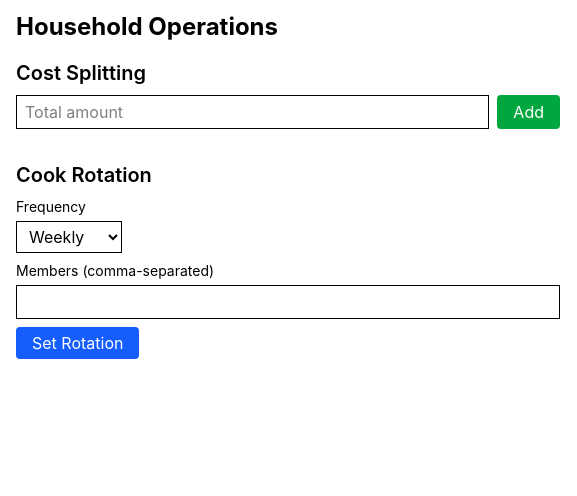
Scenario: HouseholdOps page › sets rotation and shows assignments
Type "a,b" into the field with test id "rotation-members". click: [288, 302]
box: [16,285,560,319]
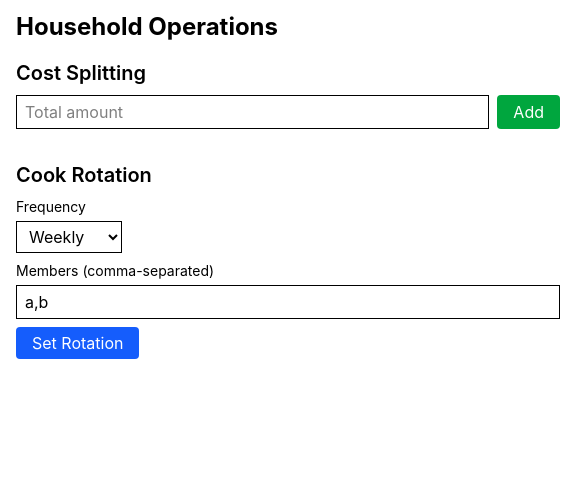
Click the button with test id "rotation-submit". click: [78, 343]
box: [16,327,139,359]
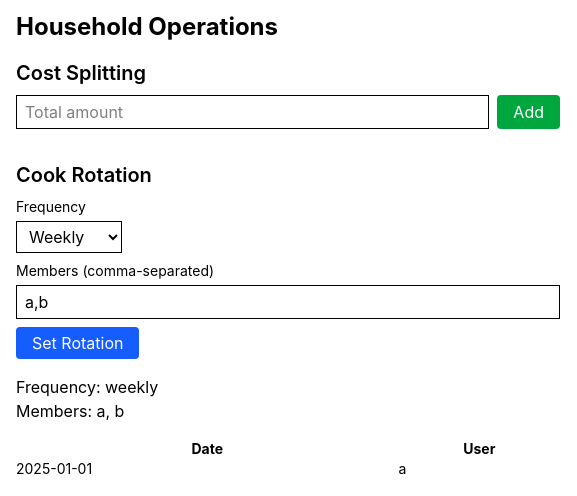
Expected: the element with test id "rotation-settings" is shown, [16,377,158,421]
Expected: the text "a" is shown, [398,459,560,479]
Expected: the table with test id "rotation-assignments" is shown, [16,439,560,479]
